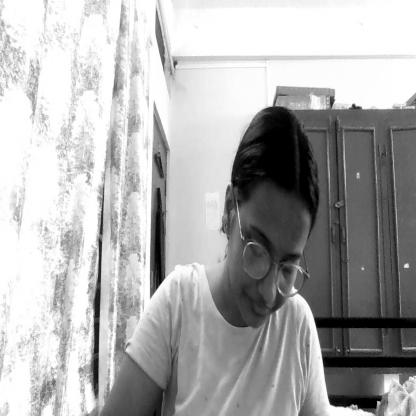Distracted: (223, 105, 318, 328)
